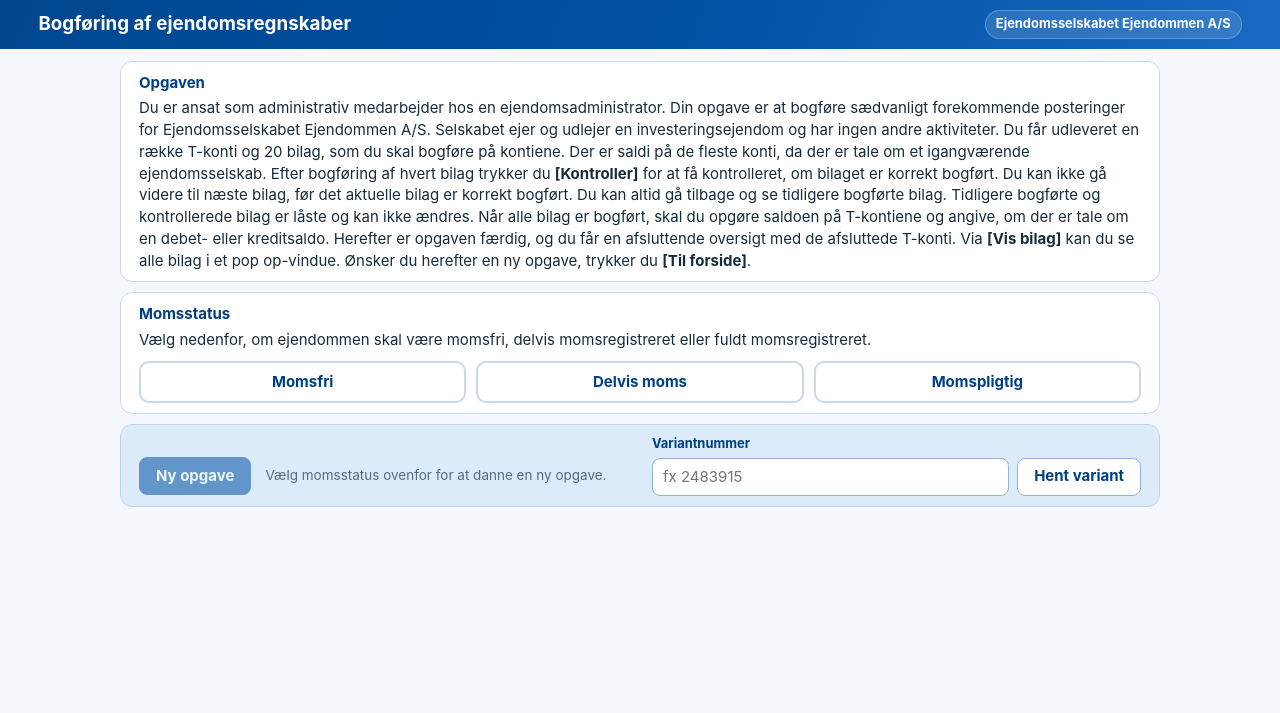
Scenario: forsiden › kan hente en variant med Enter-tasten
The width and height of the screenshot is (1280, 713).
Type "1000042" into the field labelled "Variantnummer" at coordinates (831, 477), box [652,458,1009,496]
Then press Enter
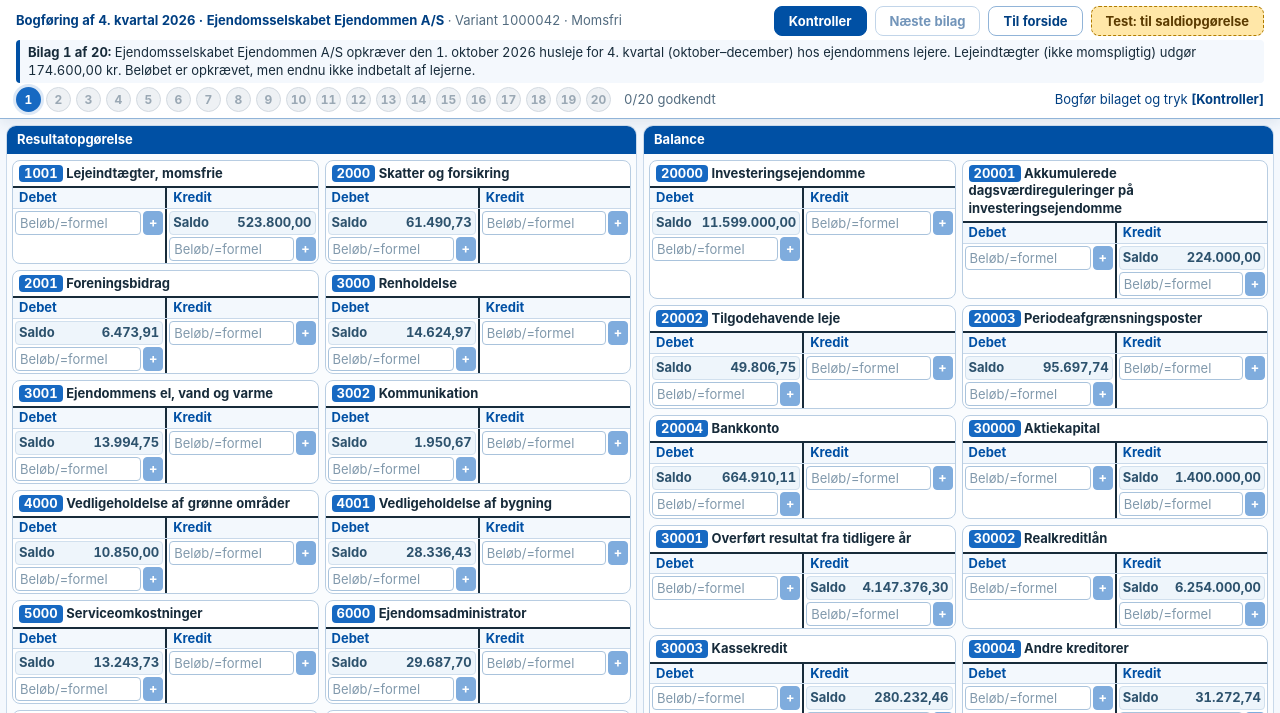
Now the heading that starts with "Bogføring af 4. kvartal" shows "Variant 1000042 · Momsfri", box [16,12,622,28]
